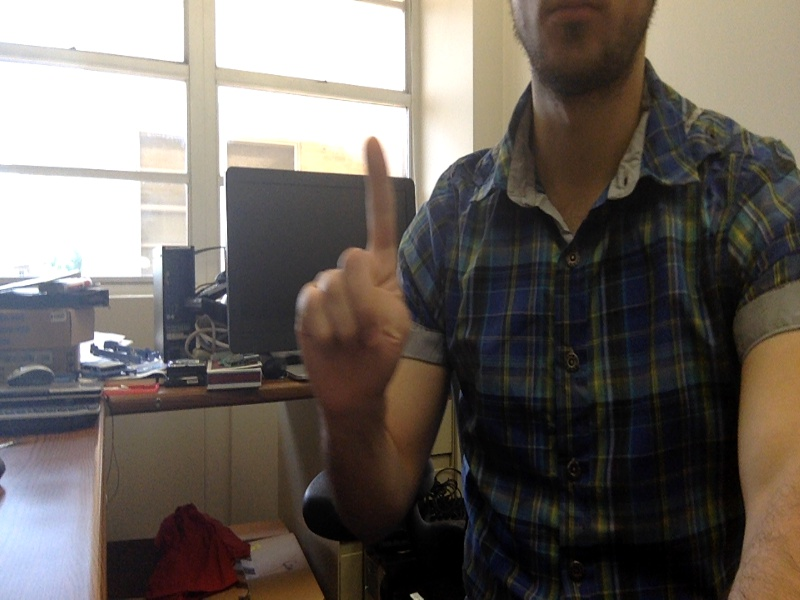1-hand: (285, 137, 410, 412)
